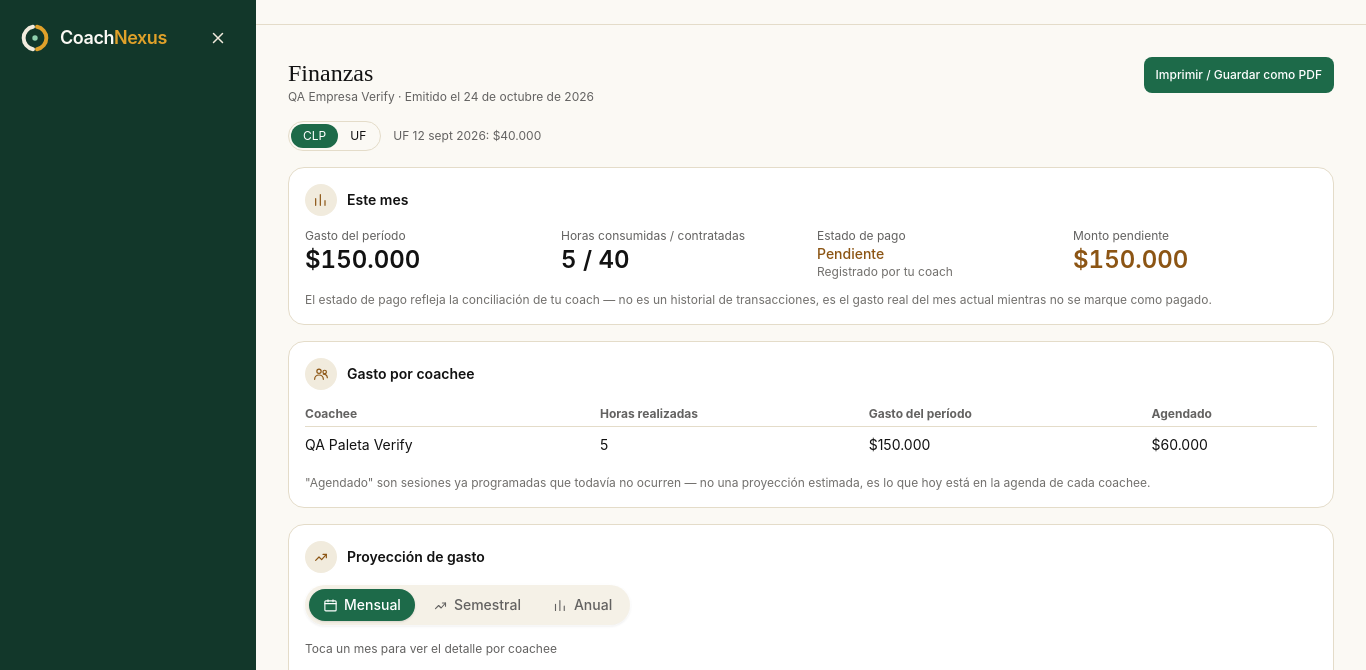
FinanzasView (empresa) › shows the daily UF glosa and converts amounts to UF when toggled — totals stay computed in CLP, only the display changes
Expected: the text "3,75 UF" is not shown
Click the button "UF" at point(358, 136), box x1=338 y1=124 x2=378 y2=148
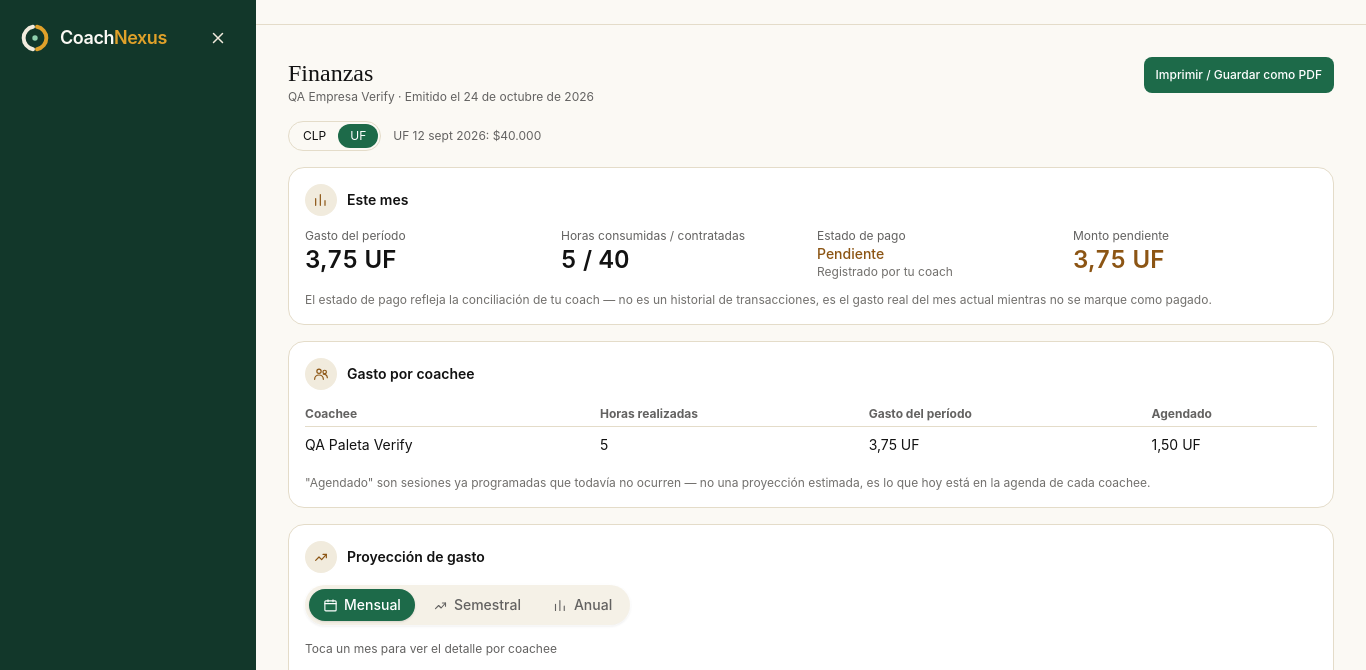
Result: the text "3,75 UF" is shown at x1=305 y1=245 x2=396 y2=274
Result: the text "$150.000" is gone
